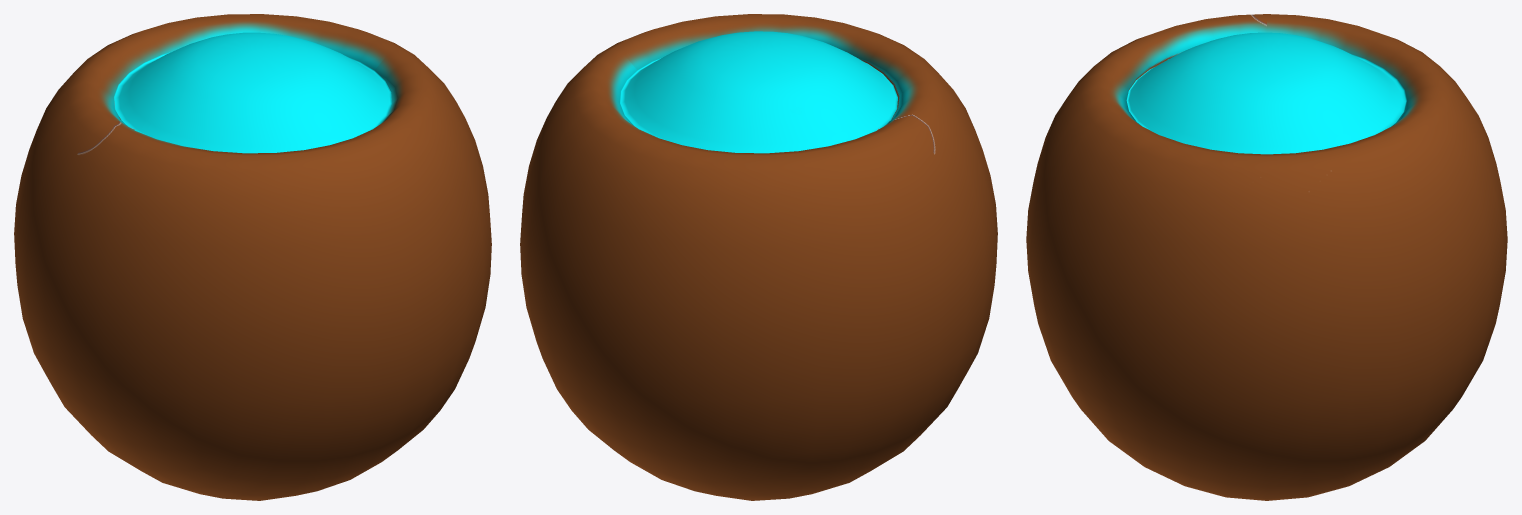
Rendered from nector.fbx.
3 renders of one model, left to right at view 1: azimuth 30°, elevation 25°; view 2: azimuth 150°, elevation 25°; view 3: azimuth 270°, elevation 25°, orthographic.
Visible parts, largest first — view 1: Roundcube; view 2: Roundcube; view 3: Roundcube.
Part boxes in pixels (left/top/right/bottom): Roundcube: left=14, top=14, right=491, bottom=500; Roundcube: left=520, top=14, right=997, bottom=500; Roundcube: left=1026, top=14, right=1507, bottom=500.
Size of the model in its own units: 136 by 134 by 136.
1 material, 1 textured.
